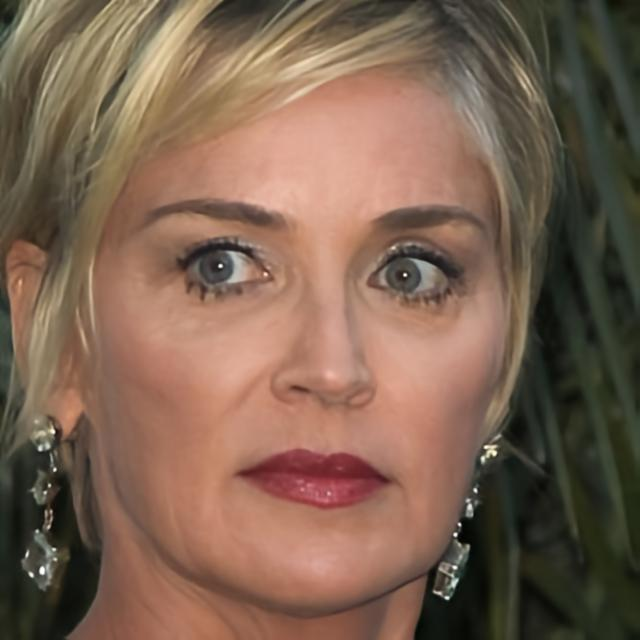surprise: (85, 61, 507, 620)
